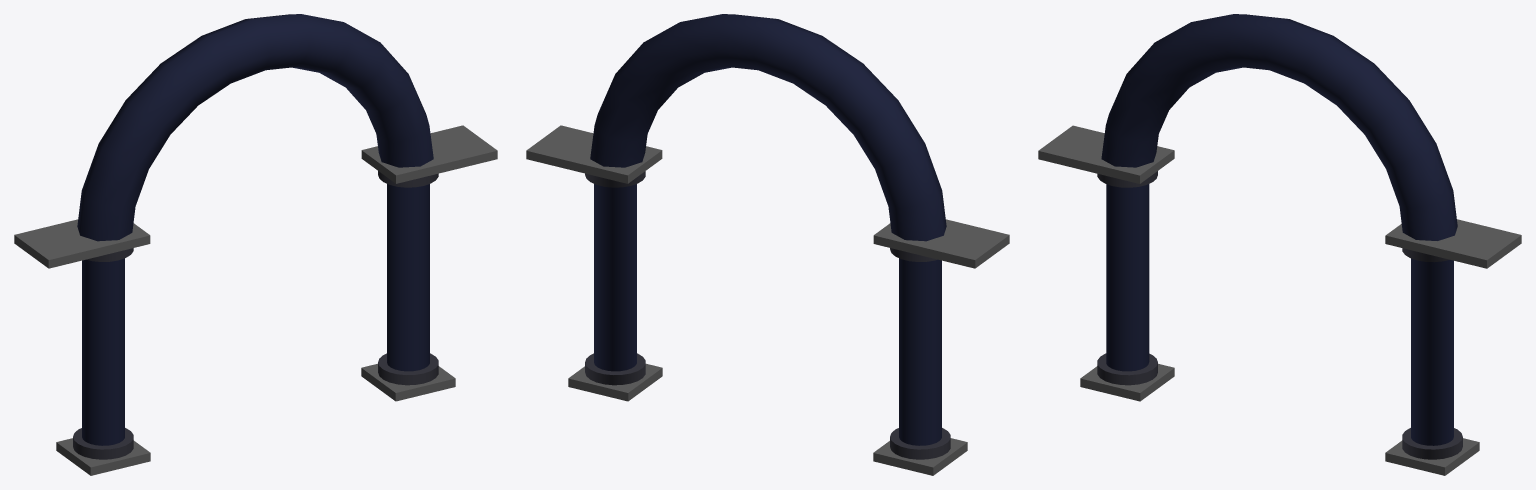
The model's file is Door.fbx.
3 renders of one model, left to right at view 1: azimuth 30°, elevation 25°; view 2: azimuth 150°, elevation 25°; view 3: azimuth 330°, elevation 25°, orthographic.
Parts seen in each view (by area): view 1: Door002; view 2: Door002; view 3: Door002.
Boxes of the visible parts, x1,y1,x2,y2 form: Door002: (14,14,497,475); Door002: (526,14,1009,475); Door002: (1038,14,1521,475).
Size of the model in its own units: 29485 by 25103 by 3937.
1 material, 1 textured.
